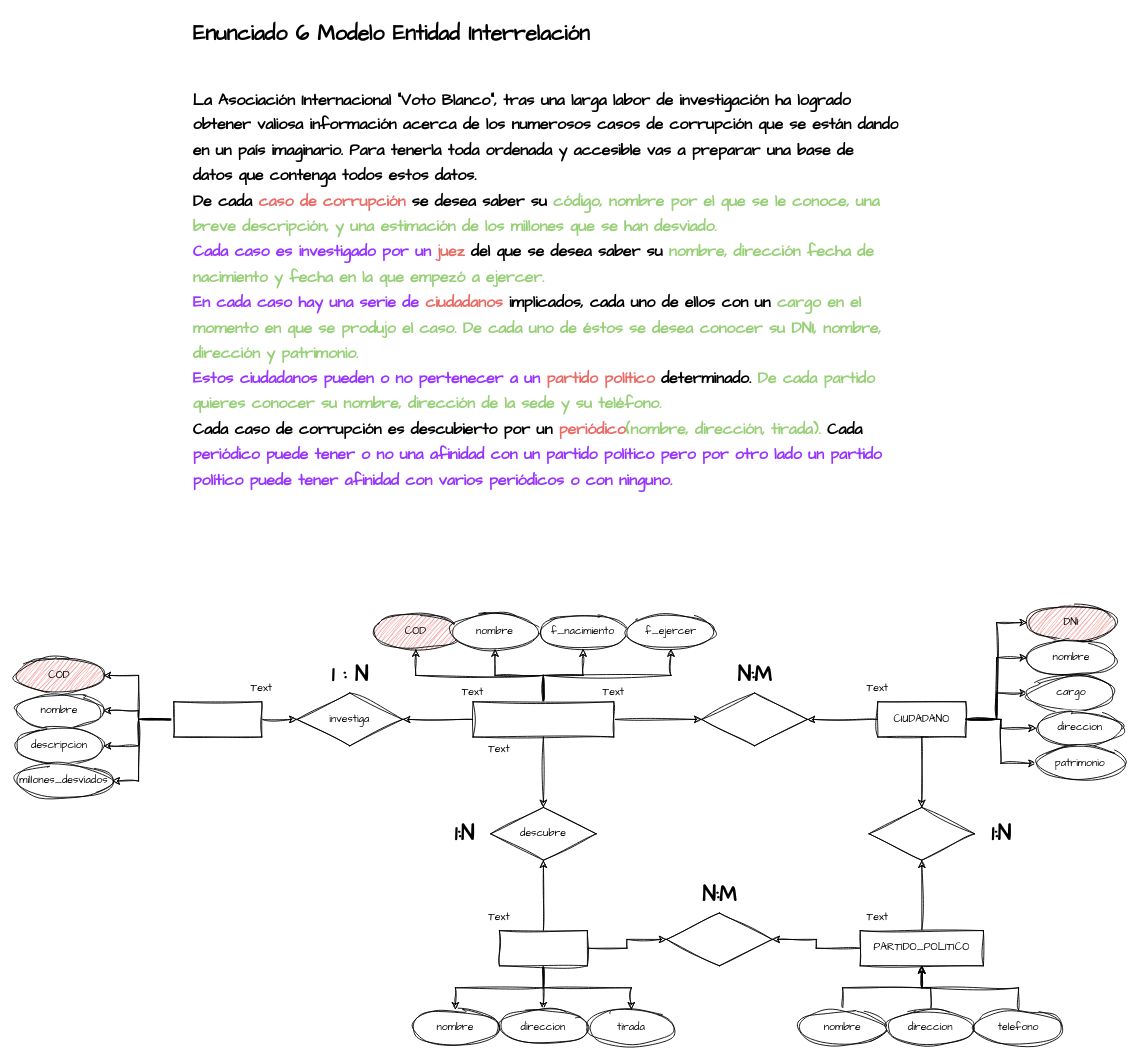
Some shapes in this 1140 by 1060 pixel diagram are drawn without their labels. The shapes that lost their labels are listed below. From the top down, each one's centre as x and y in pixels, then its label:
At point 217,719: "JUEZ".
At point 543,719: "CASO_CORRUCPCION".
At point 754,719: "implicado".
At point 921,833: "pertenece".
At point 543,948: "PERIODICO".
At point 719,939: "afinidad".
